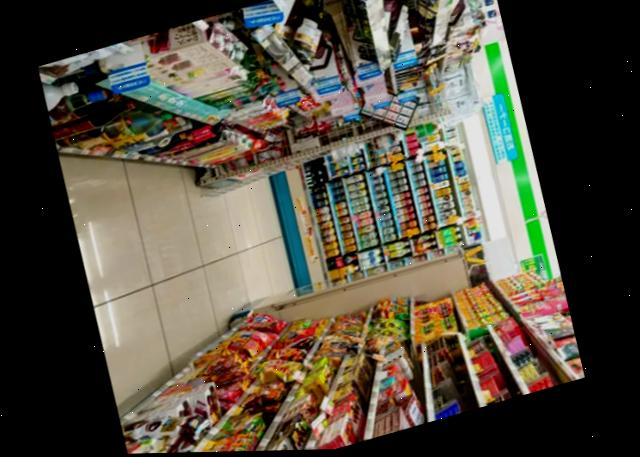background: (26, 0, 599, 456)
